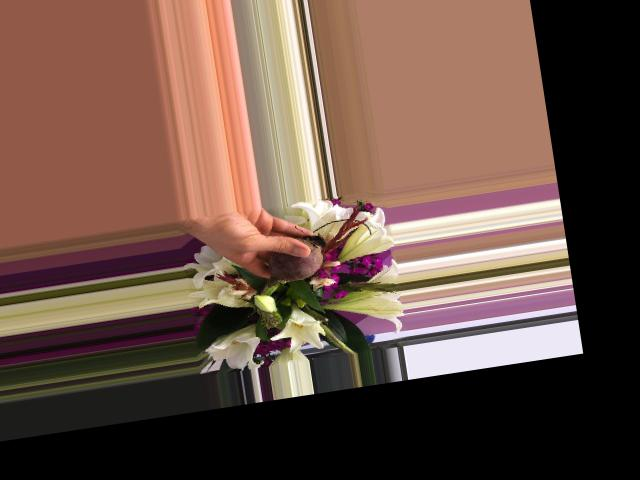beet: (250, 232, 332, 296)
